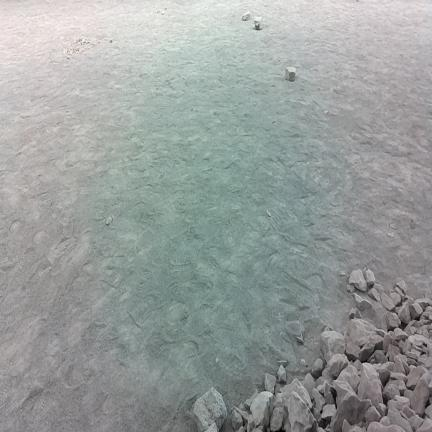Rock: (276, 379, 312, 431), (331, 392, 371, 431), (194, 388, 227, 431), (287, 392, 316, 431), (358, 363, 383, 406), (410, 374, 431, 416), (251, 392, 274, 428), (349, 319, 376, 347), (321, 331, 345, 362), (362, 302, 387, 330), (359, 335, 383, 362), (337, 365, 359, 392), (333, 380, 355, 405), (387, 410, 412, 431), (270, 394, 284, 431), (328, 354, 348, 378), (407, 366, 426, 390), (408, 334, 431, 352), (345, 334, 360, 361), (349, 269, 366, 292), (319, 405, 336, 427), (373, 364, 390, 386), (388, 395, 410, 411), (353, 293, 372, 311), (367, 422, 403, 431), (383, 382, 400, 401), (243, 389, 258, 410), (366, 406, 381, 427), (303, 374, 316, 398), (313, 389, 325, 412), (398, 303, 411, 324), (342, 420, 365, 431), (386, 312, 400, 330), (381, 293, 395, 311), (264, 373, 276, 393), (369, 350, 387, 363), (234, 407, 249, 422), (409, 415, 423, 431), (409, 303, 423, 319), (232, 411, 243, 431), (318, 380, 330, 398), (312, 358, 323, 377), (416, 418, 431, 431), (388, 345, 400, 361), (276, 365, 286, 384), (390, 372, 407, 383), (401, 405, 415, 418), (394, 328, 408, 341), (404, 321, 417, 335), (394, 380, 406, 395), (394, 359, 405, 375), (396, 278, 407, 294), (368, 288, 381, 301), (322, 368, 333, 383), (418, 357, 431, 369), (415, 299, 429, 310), (366, 269, 375, 286), (312, 407, 321, 423), (394, 287, 405, 300), (421, 307, 431, 321), (247, 414, 255, 431), (383, 333, 390, 352), (349, 308, 361, 319), (376, 404, 386, 417), (413, 320, 429, 328), (286, 67, 295, 81), (391, 292, 400, 306), (407, 351, 419, 361), (374, 283, 384, 294), (383, 362, 394, 371), (395, 354, 407, 362), (255, 17, 262, 30), (316, 377, 325, 387), (380, 417, 390, 426), (425, 405, 431, 419), (404, 340, 410, 354), (408, 358, 418, 366), (242, 11, 250, 20), (404, 390, 413, 398), (406, 296, 414, 305), (300, 359, 307, 368), (296, 334, 303, 343), (238, 404, 248, 410), (347, 285, 355, 292), (339, 270, 347, 277), (422, 330, 429, 338), (252, 426, 263, 431), (398, 340, 403, 351), (429, 380, 431, 405), (317, 427, 326, 431), (237, 427, 245, 431), (325, 327, 329, 331), (216, 358, 218, 363)
